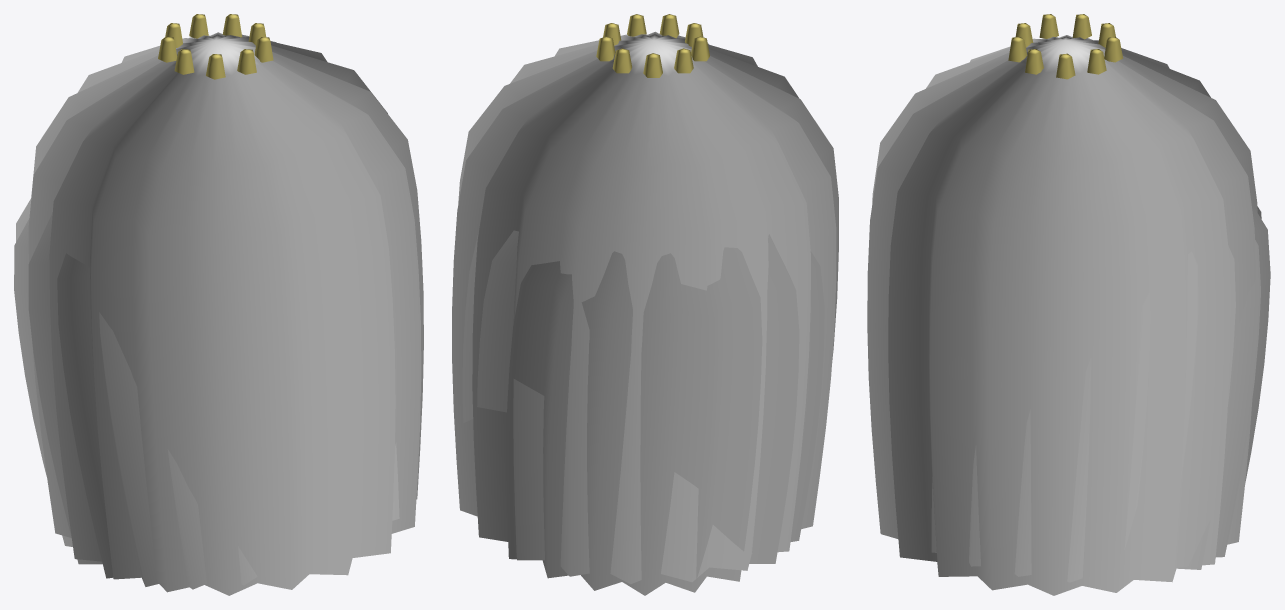
The model's file is barrel.glb.
3 renders of one model, left to right at view 1: azimuth 30°, elevation 25°; view 2: azimuth 150°, elevation 25°; view 3: azimuth 270°, elevation 25°, orthographic.
Visible parts, largest first — view 1: barrel_0, barrel_1; view 2: barrel_0, barrel_1; view 3: barrel_0, barrel_1.
Part boxes in pixels (x1,y1,x2,y2): barrel_0: [28, 14, 423, 595]; barrel_1: [14, 198, 399, 589]; barrel_0: [452, 14, 838, 584]; barrel_1: [462, 230, 824, 595]; barrel_0: [867, 14, 1257, 595]; barrel_1: [931, 204, 1270, 582].
Bounding box in the file's own units: 0.6836 × 0.9457 × 0.6854.
